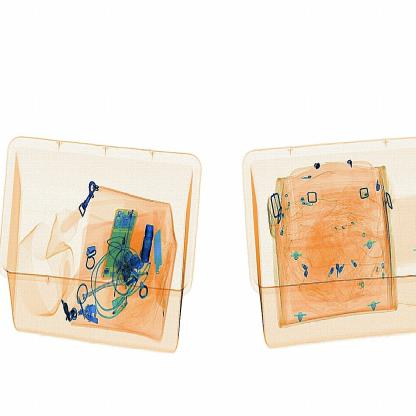wrench: (152, 230, 167, 308)
